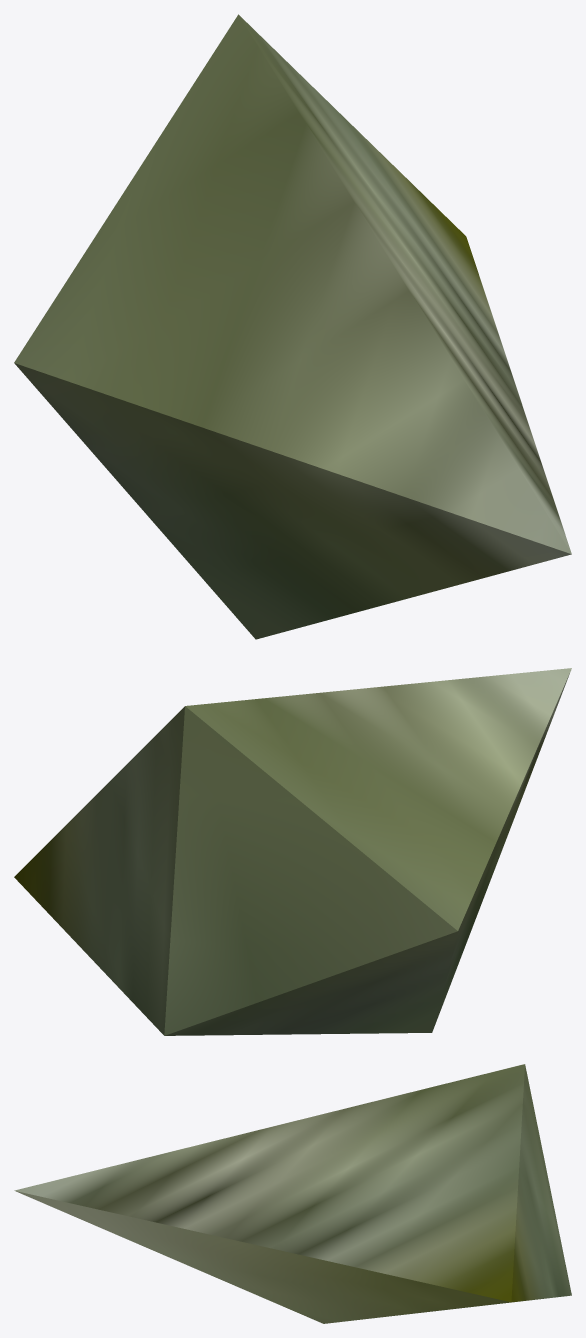
The picture shows the model from 3 angles, top to bottom: view 1: azimuth 30°, elevation 25°; view 2: azimuth 150°, elevation 25°; view 3: azimuth 270°, elevation 25°; orthographic projection. The views are drawn at different scales.
Bounding box in the file's own units: 0.0821 × 0.0755 × 0.1258.
Materials: 1 (1 with a texture image).
